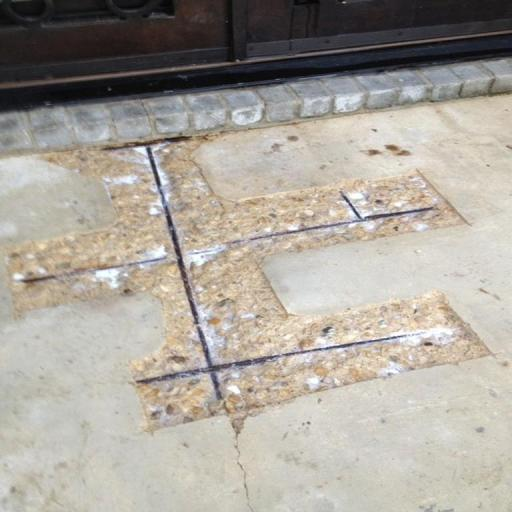spalling: (15, 127, 493, 429)
